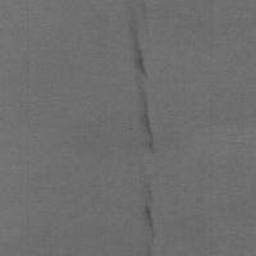Inclusion: (129, 0, 156, 253)
